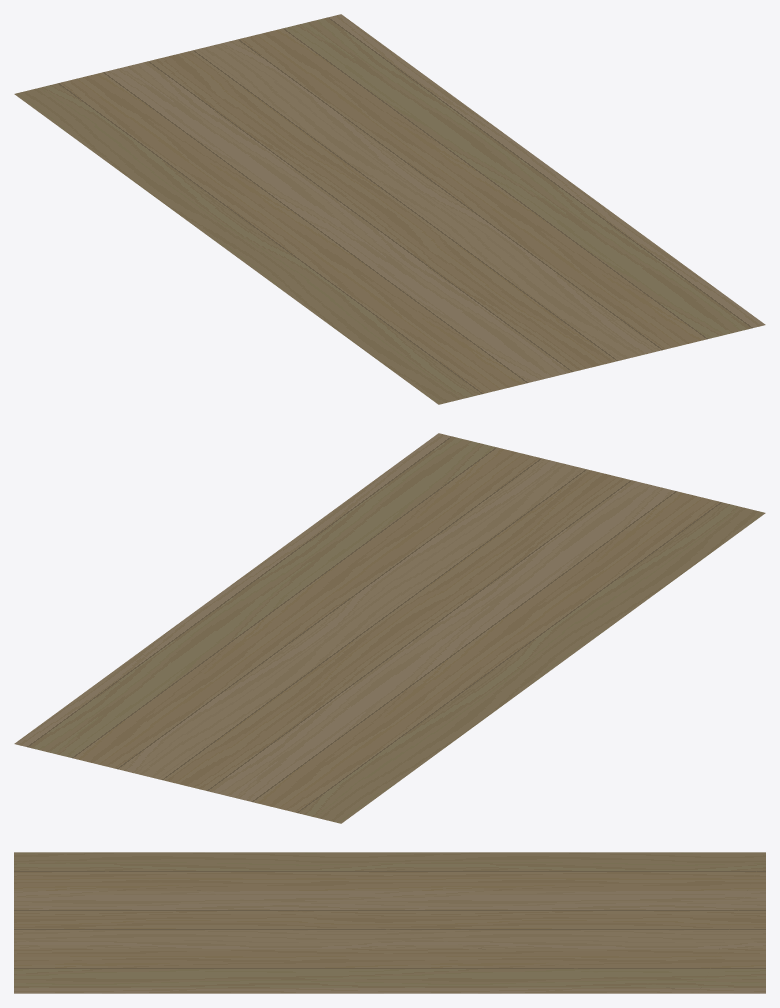
File: kd_stage_135ded_4_12_exterior_piece_2.glb
The picture shows the model from 3 angles, top to bottom: view 1: azimuth 30°, elevation 25°; view 2: azimuth 150°, elevation 25°; view 3: azimuth 270°, elevation 25°; orthographic projection. The views are drawn at different scales.
Parts seen in each view (by area): view 1: kd_stage_135ded_4_12_exterior_piece_2; view 2: kd_stage_135ded_4_12_exterior_piece_2; view 3: kd_stage_135ded_4_12_exterior_piece_2.
Boxes of the visible parts, left/top/right/bottom form: kd_stage_135ded_4_12_exterior_piece_2: left=14, top=14, right=765, bottom=404; kd_stage_135ded_4_12_exterior_piece_2: left=14, top=433, right=765, bottom=823; kd_stage_135ded_4_12_exterior_piece_2: left=14, top=852, right=765, bottom=993.
Bounding box in the file's own units: 1.01 × 1.19e-07 × 2.26.
Materials: 1 (1 with a texture image).
